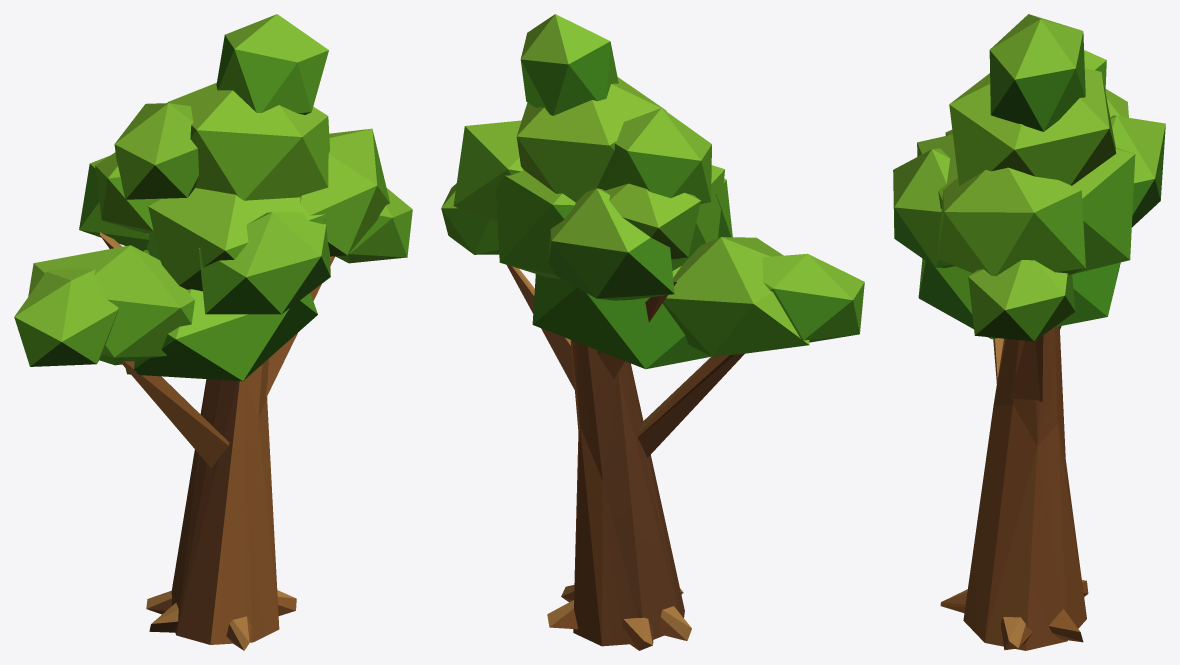
The picture shows the model from 3 angles, left to right: view 1: azimuth 30°, elevation 25°; view 2: azimuth 150°, elevation 25°; view 3: azimuth 270°, elevation 25°; orthographic projection. The views are drawn at different scales.
Parts seen in each view (by area): view 1: WK_RegularTree_LOD1_Balanced; view 2: WK_RegularTree_LOD1_Balanced; view 3: WK_RegularTree_LOD1_Balanced.
Boxes of the visible parts, x1,y1,x2,y2 form: WK_RegularTree_LOD1_Balanced: (14, 14, 412, 650); WK_RegularTree_LOD1_Balanced: (441, 14, 864, 650); WK_RegularTree_LOD1_Balanced: (893, 14, 1165, 650).
Size of the model in its own units: 4.6 by 6.59 by 2.54.
